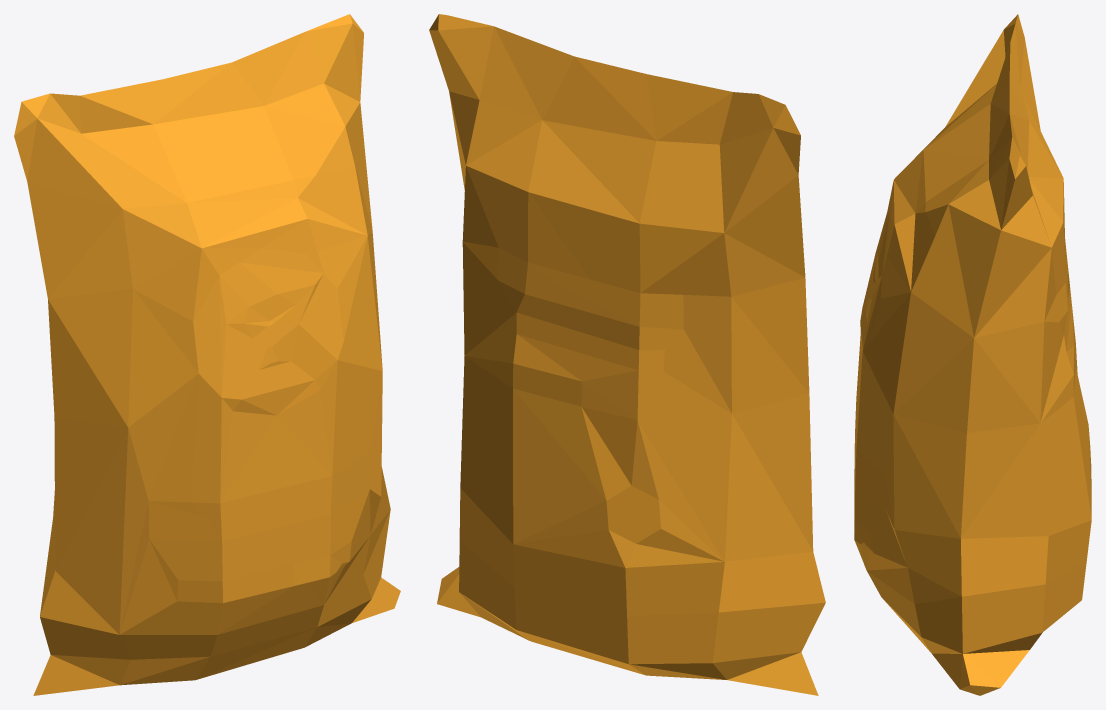
The model's file is SM_Bag_Soil_Standing_Farm.fbx.
The picture shows the model from 3 angles, left to right: view 1: azimuth 30°, elevation 25°; view 2: azimuth 150°, elevation 25°; view 3: azimuth 270°, elevation 25°; orthographic projection. The views are drawn at different scales.
Parts seen in each view (by area): view 1: bag-soil-standing-farm; view 2: bag-soil-standing-farm; view 3: bag-soil-standing-farm.
Part boxes in pixels (box(x1,y1,x2,y2)): bag-soil-standing-farm: box(14, 14, 400, 695); bag-soil-standing-farm: box(429, 14, 825, 695); bag-soil-standing-farm: box(854, 14, 1091, 695).
Bounding box in the file's own units: 0.5933 × 0.9085 × 0.3637.
